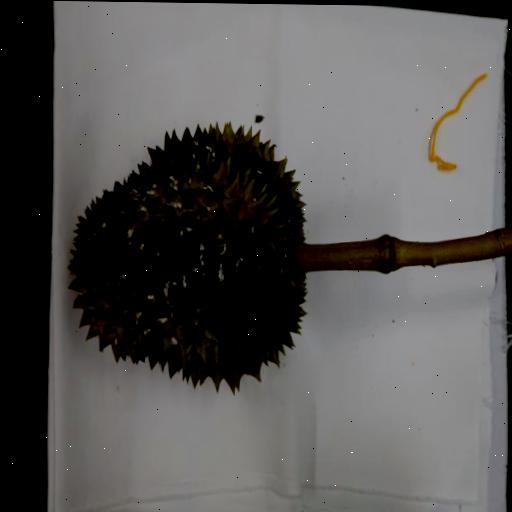mold: (58, 88, 362, 420)
